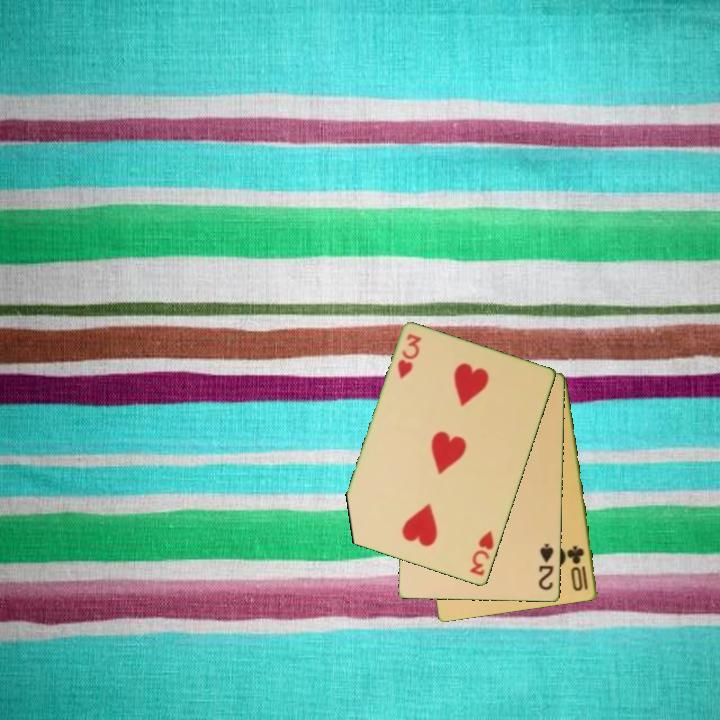10c: (565, 542, 591, 594)
2s: (535, 540, 557, 593)
3h: (466, 527, 497, 579), (394, 330, 425, 382)
